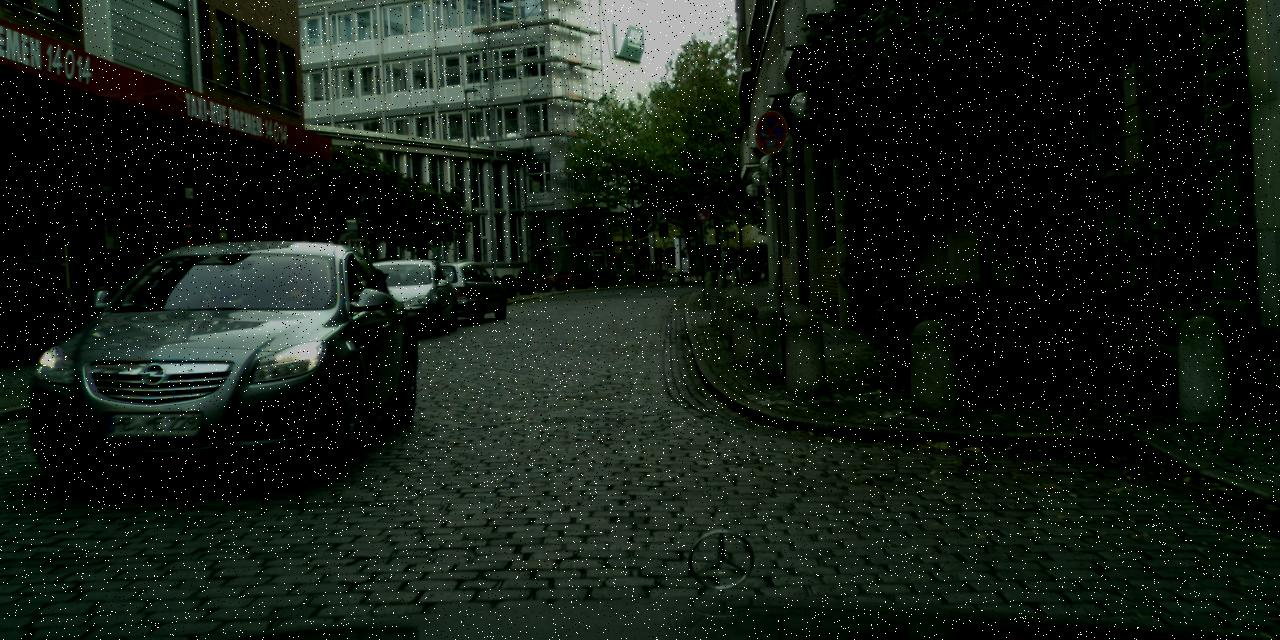ped: (754, 250, 762, 272)
